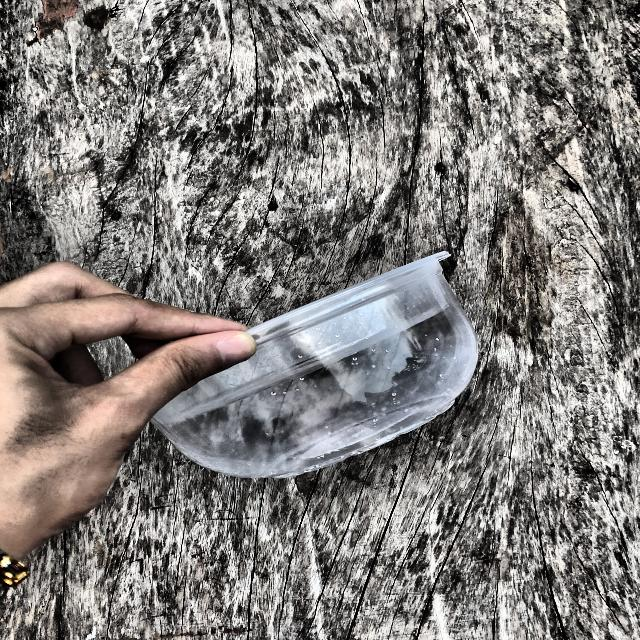plastic container: (138, 233, 501, 487)
